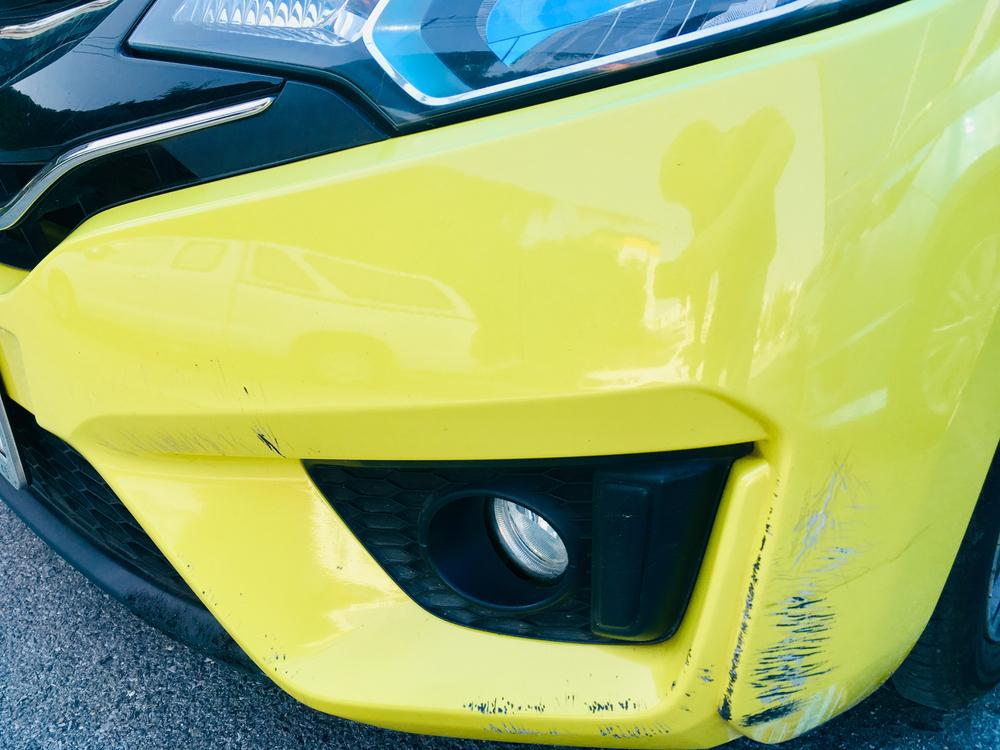scratch: (470, 459, 866, 744)
